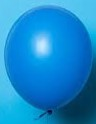Balloon: (3, 5, 93, 110)
